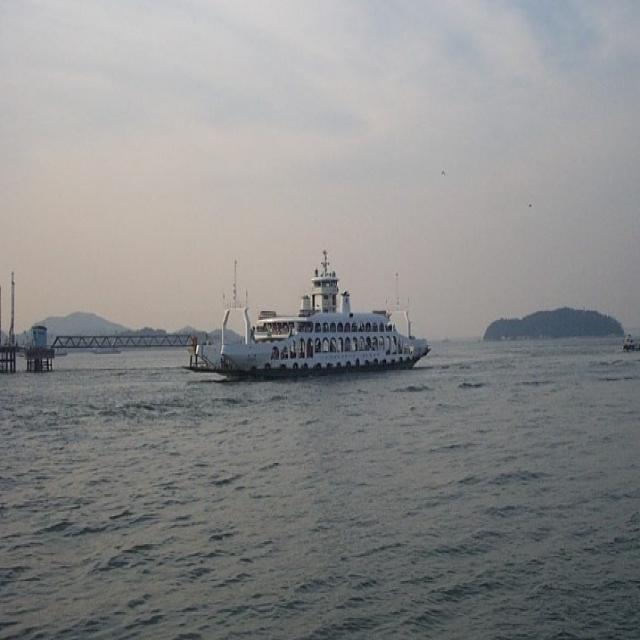houseboat: (180, 217, 428, 395)
island: (474, 286, 621, 354)
